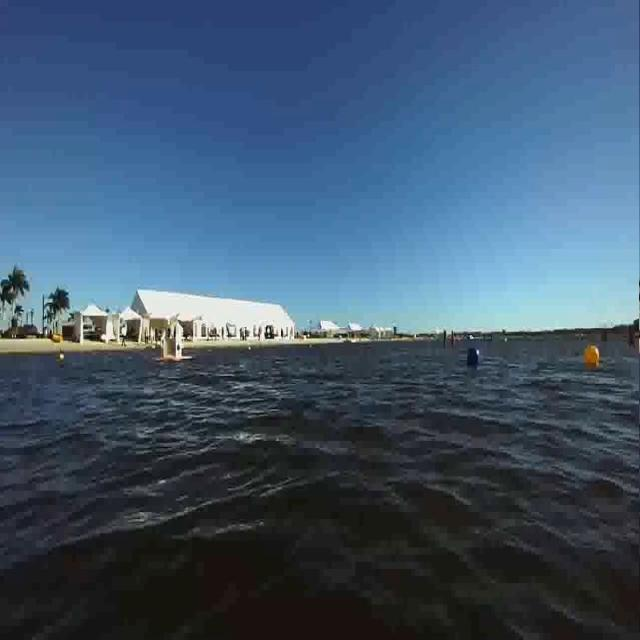blue-buoy: (468, 346, 483, 368)
yellow-buoy: (585, 342, 602, 369)
